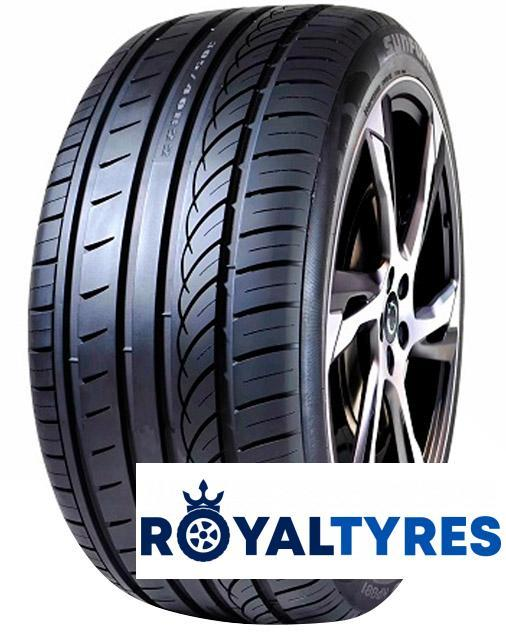objects: (136, 463, 506, 579)
